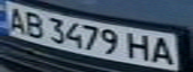3: (42, 16, 69, 45)
4: (63, 20, 84, 50)
7: (78, 24, 103, 53)
9: (96, 26, 124, 56)
A: (148, 34, 181, 65), (0, 3, 30, 34)
B: (18, 9, 48, 39)
H: (124, 30, 154, 61)
